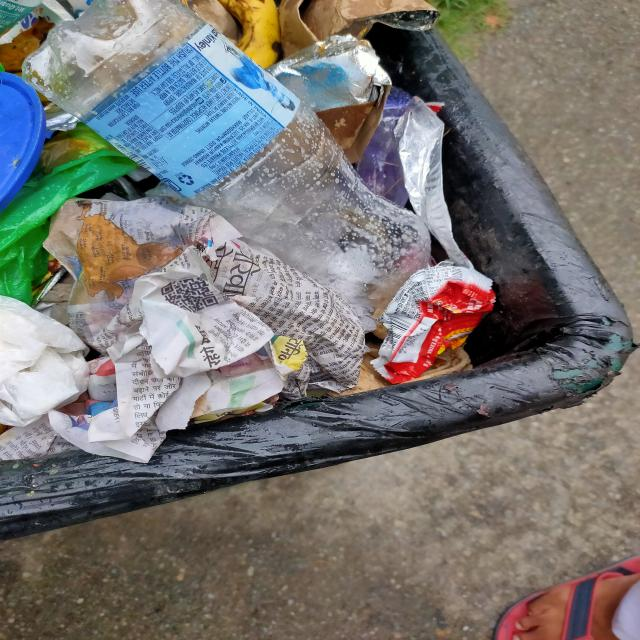B3: (24, 0, 439, 327), (78, 208, 280, 344), (378, 262, 498, 384)
